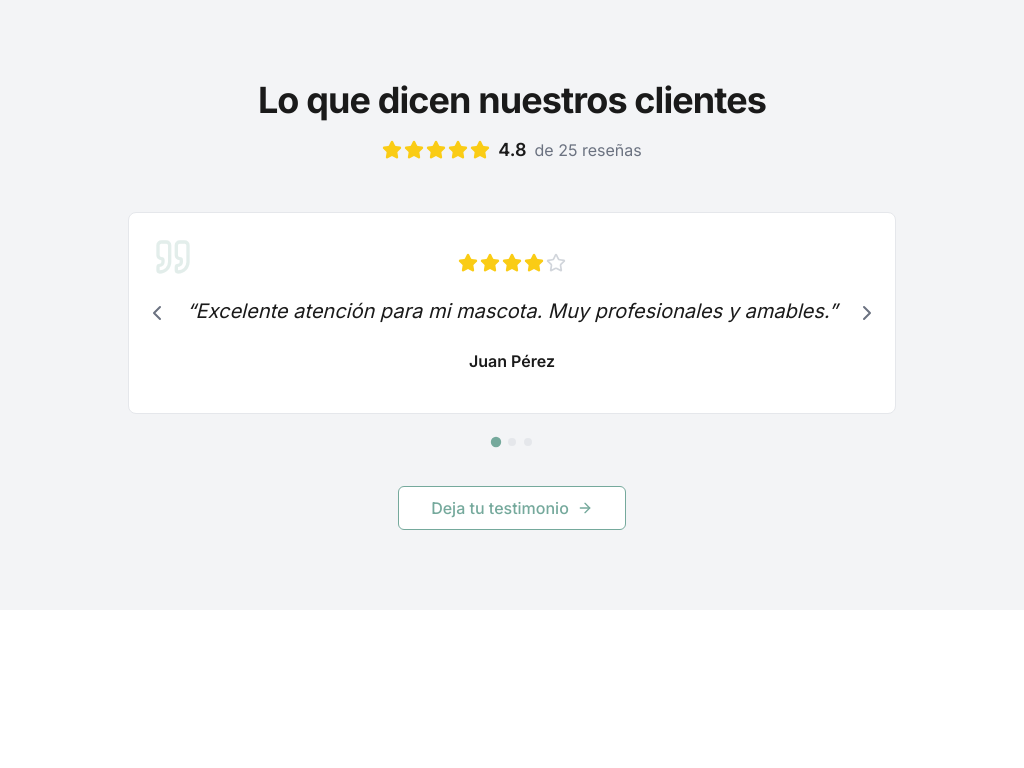
TestimonialsSection › Navigation Controls › should navigate to previous testimonial on arrow click
The image size is (1024, 768).
Click next to go to second testimonial
Click the button named "Siguiente testimonio" at (867, 313), box [847,293,887,333]
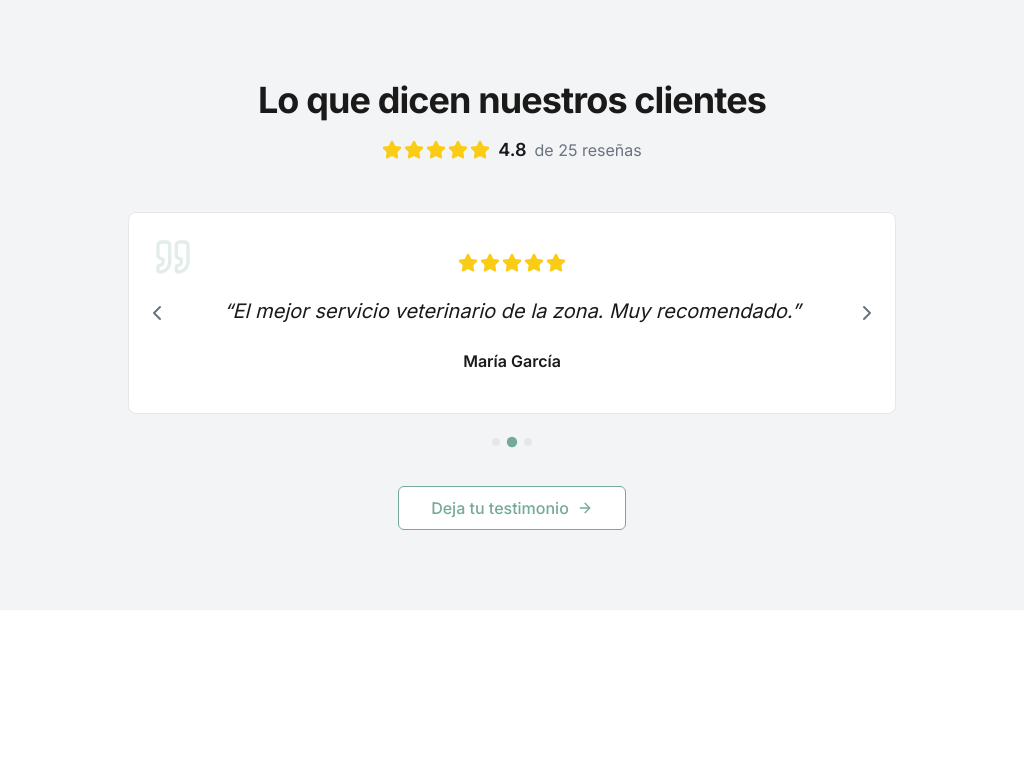
Expected: the text "María García" is shown, [463,351,561,371]
Click previous to go back
Click the button named "Testimonio anterior" at (157, 313), box [137,293,177,333]
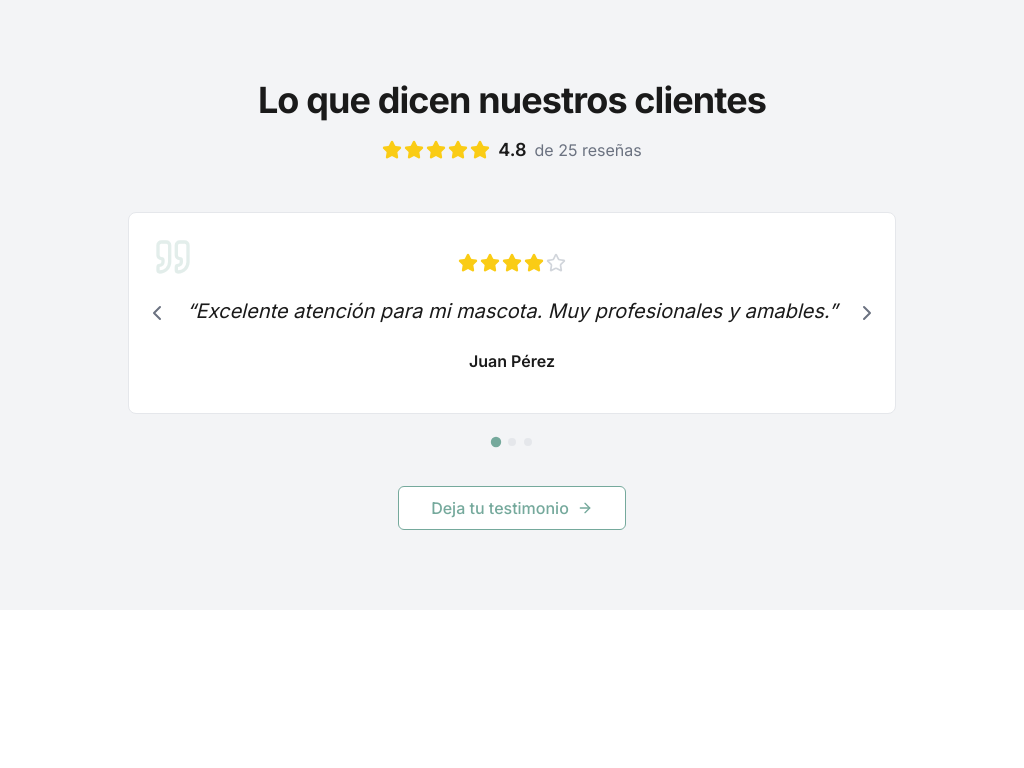
Expected: the text "Juan Pérez" is shown, [469,351,555,371]
